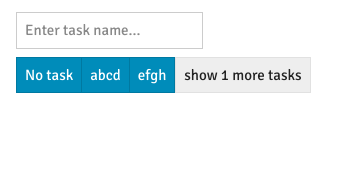
Scenario: hides excessive amount of tasks
Expected: the radio button labelled "abcd" is shown, x1=90 y1=64 x2=103 y2=76
Expected: the radio button labelled "efgh" is shown, x1=138 y1=64 x2=151 y2=76
Click the button with test id "more-tasks-btn": (243,75) x1=175 y1=56 x2=310 y2=93
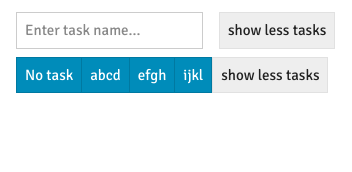
Expected: the radio button labelled "abcd" is shown, x1=90 y1=64 x2=103 y2=76
Expected: the radio button labelled "ijkl" is shown, x1=183 y1=64 x2=196 y2=76
Expected: the button with test id "more-tasks-btn" reads "show less tasks"
Click the button with test id "more-tasks-btn": (270,75) x1=212 y1=56 x2=328 y2=93
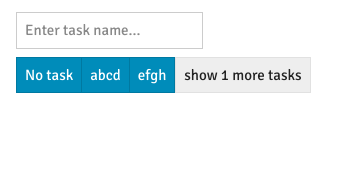
Expected: the radio button labelled "abcd" is shown, x1=90 y1=64 x2=103 y2=76
Expected: the label labelled "ijkl" is gone
Expected: the button with test id "more-tasks-btn" reads "show 1 more tasks", x1=175 y1=56 x2=310 y2=93
